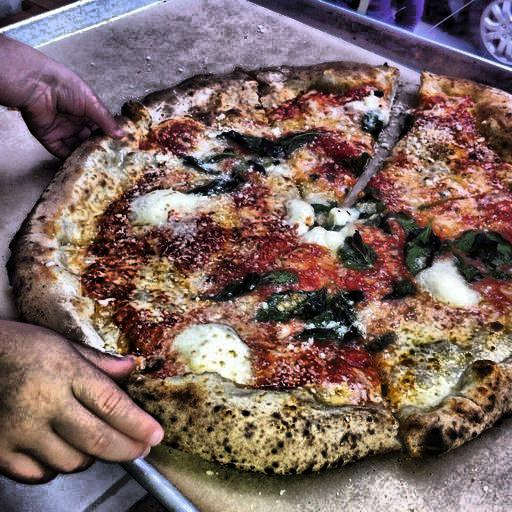pizza: (11, 46, 512, 488)
